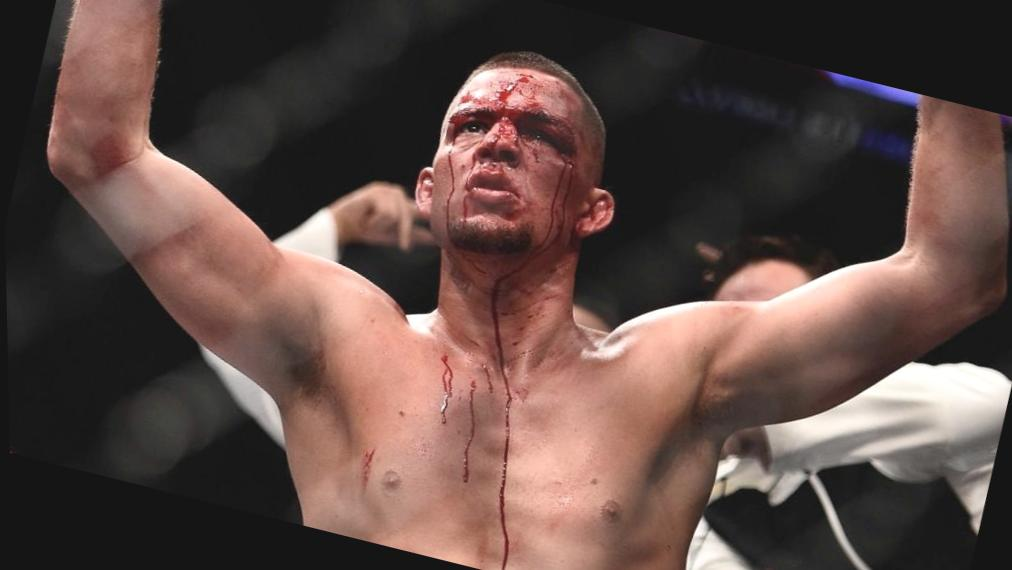Fire: (415, 67, 599, 222), (490, 258, 582, 400), (488, 278, 511, 570), (522, 155, 574, 265), (460, 379, 474, 482), (436, 353, 451, 424), (357, 448, 372, 487), (481, 364, 491, 392)
